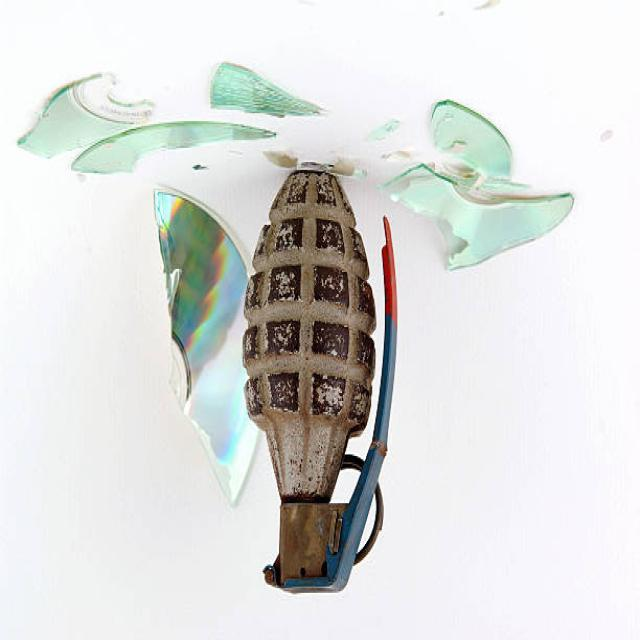grenade: (239, 164, 405, 603)
